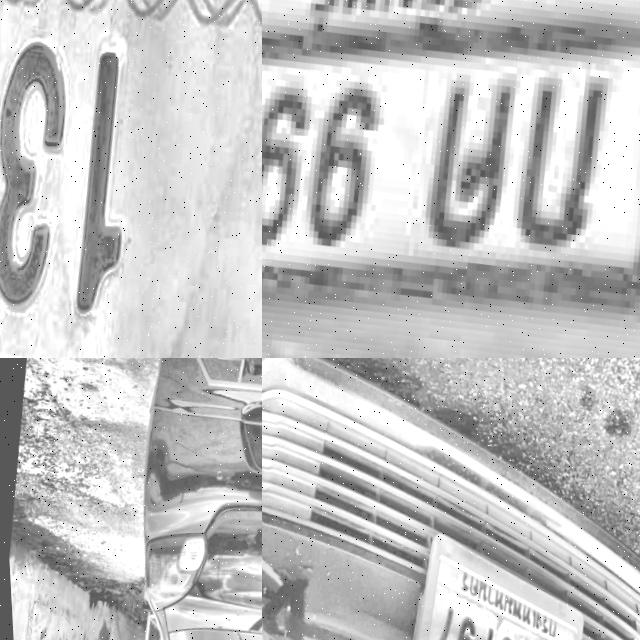license-plate: (262, 0, 640, 358), (0, 0, 262, 358), (390, 521, 597, 640)
